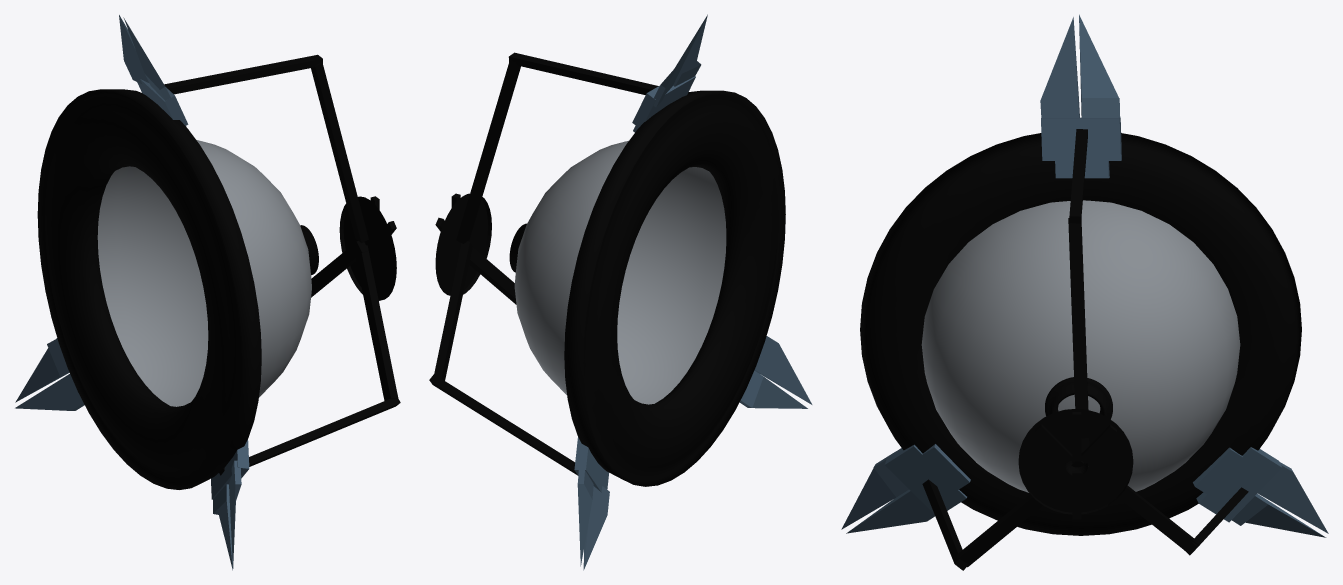
The model's file is energyballTirador.fbx.
The picture shows the model from 3 angles, left to right: view 1: azimuth 30°, elevation 25°; view 2: azimuth 150°, elevation 25°; view 3: azimuth 270°, elevation 25°; orthographic projection. The views are drawn at different scales.
Parts seen in each view (by area): view 1: Cube.001, Cube.004, Cube.009, Cube.008; view 2: Cube.001, Cube.009, Cube.004, Cube.008; view 3: Cube.001, Cube.004, Cube.009, Cube.008.
Part boxes in pixels (x1,y1,x2,y2): Cube.001: [15, 15, 318, 570]; Cube.004: [219, 196, 400, 475]; Cube.009: [164, 54, 368, 243]; Cube.008: [311, 241, 368, 297]; Cube.001: [509, 14, 812, 570]; Cube.009: [456, 52, 658, 243]; Cube.004: [435, 193, 516, 304]; Cube.008: [429, 241, 577, 475]; Cube.001: [841, 14, 1328, 537]; Cube.004: [922, 408, 1133, 570]; Cube.009: [1068, 129, 1089, 452]; Cube.008: [1074, 461, 1248, 555].
Size of the model in its own units: 395 by 689 by 588.
